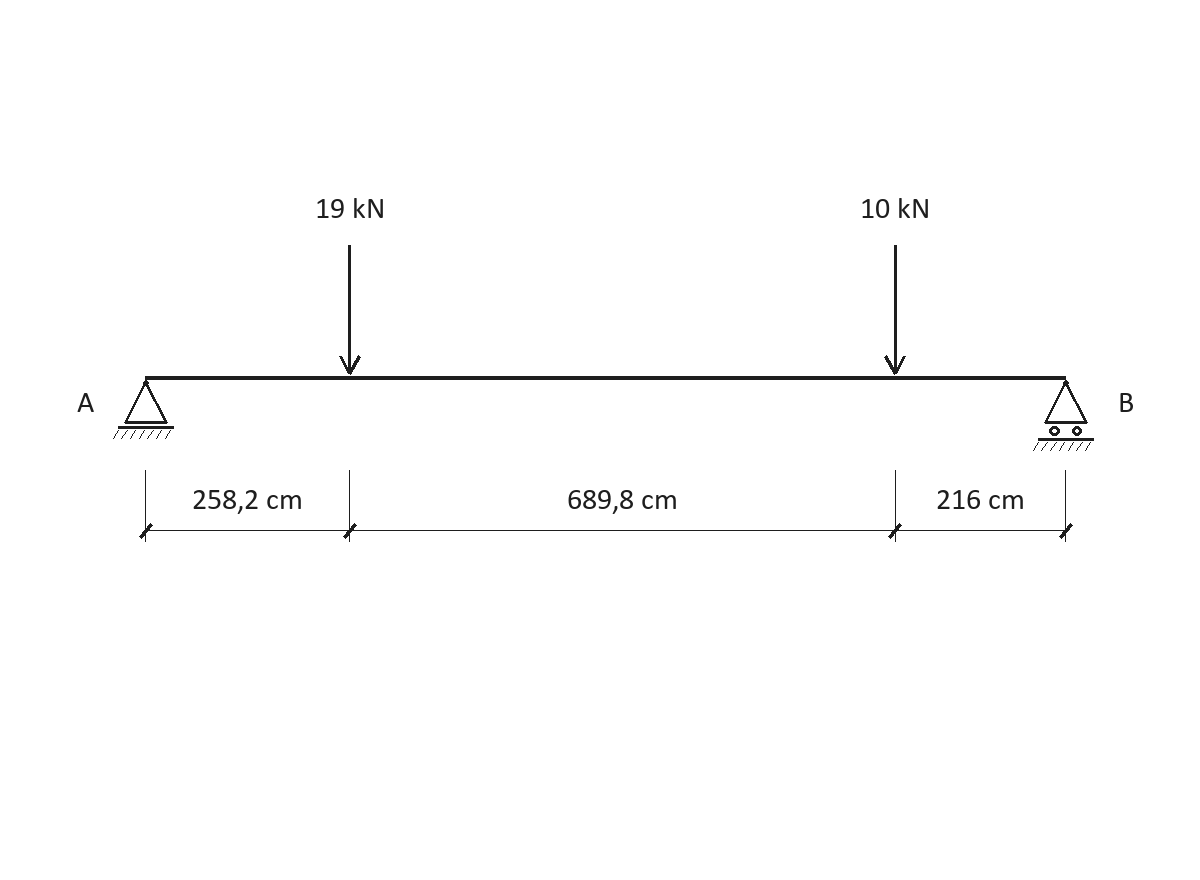pin_support: (113, 380, 174, 439)
point_load: (339, 245, 361, 375), (884, 245, 906, 375)
roller_support: (1033, 380, 1094, 451)
